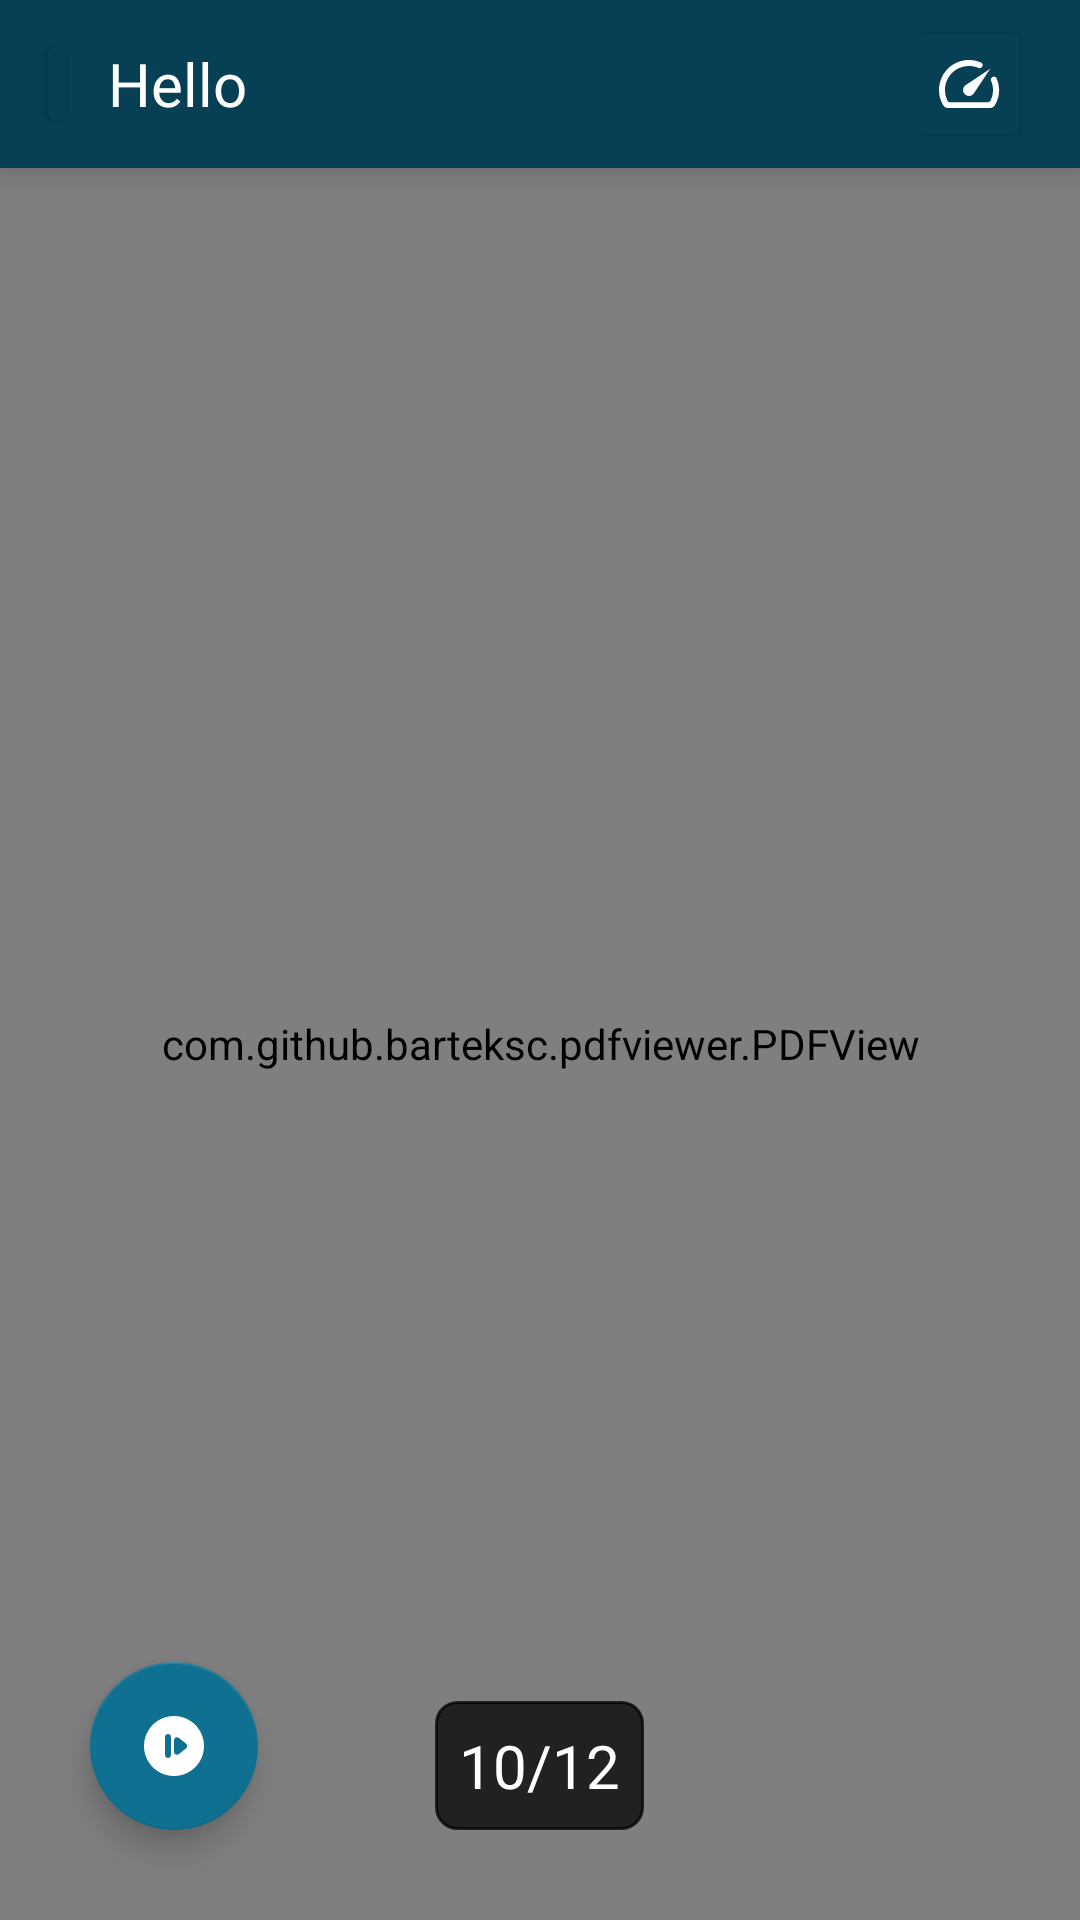

Point at icon controls on the screen. Image size 1080x1920, points as point (x, y).
speed: point (969, 84)
